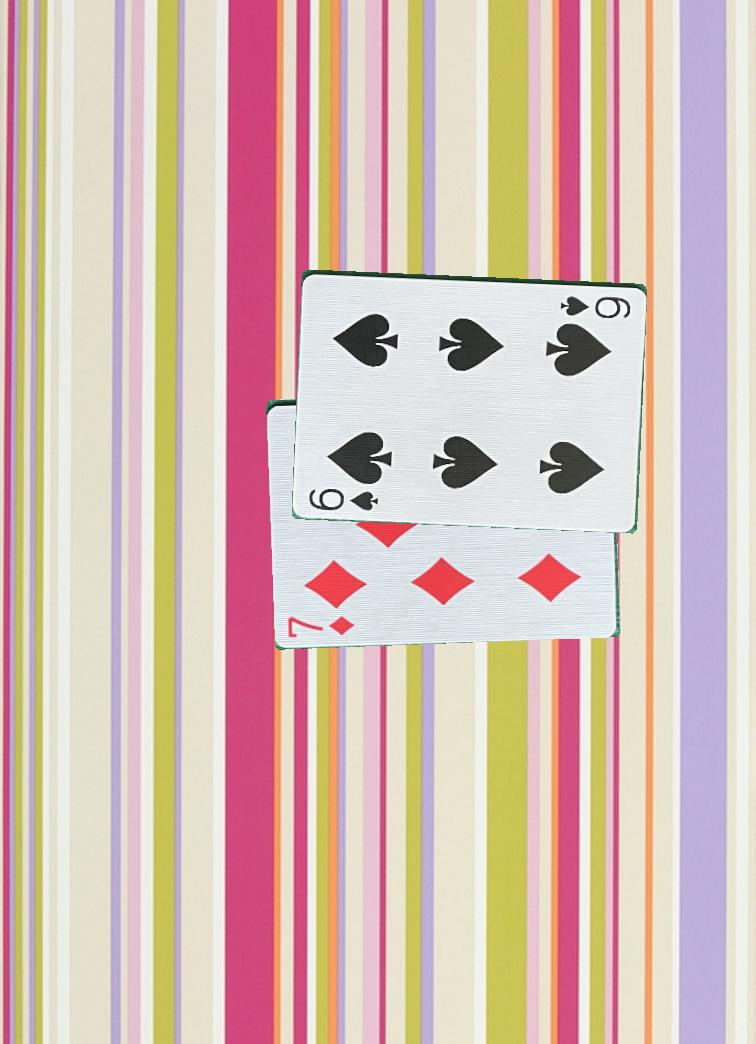6s: (305, 484, 386, 514), (556, 292, 635, 319)
7d: (281, 609, 361, 646)
